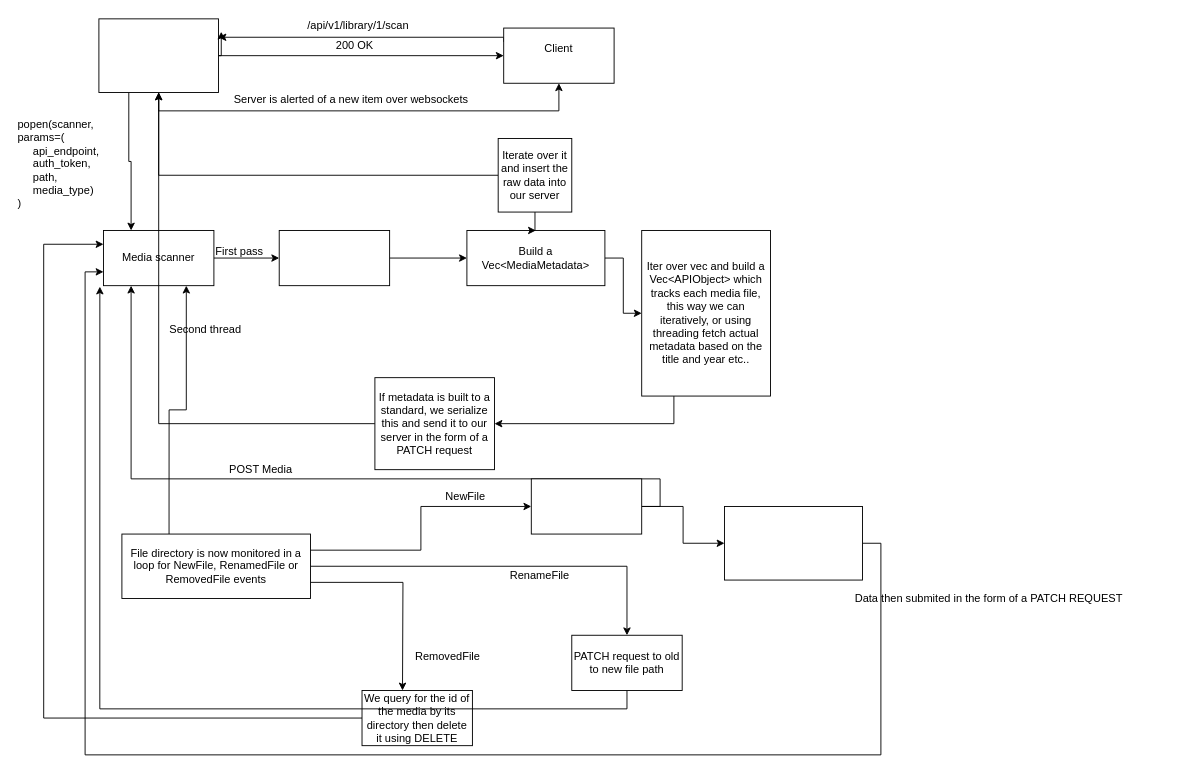
The diagram is 1190 pixels wide and 778 high, and some of its shapes have lost their labels. The box of each missing label's shape, as (x1, y1, x2, y2) in pixels:
Build MediaMetadata: (530, 478, 642, 534)
Enumerate dir and filter media: (278, 230, 390, 286)
New APIObject which fetches meta from IMDB, OMDB, TVDB and TMDB: (724, 506, 862, 580)
Server: (98, 18, 218, 92)
